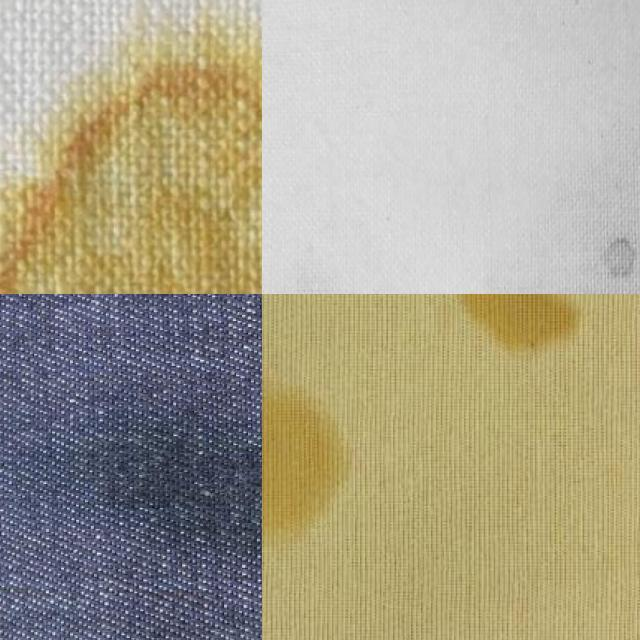Thread_other: (69, 387, 262, 597), (262, 333, 362, 577), (409, 294, 611, 409), (583, 217, 640, 294)
